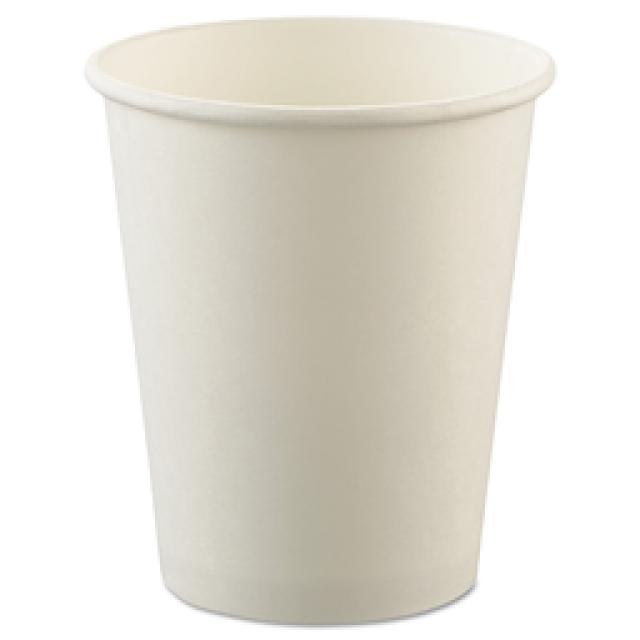paper_cups: (84, 14, 556, 623)
